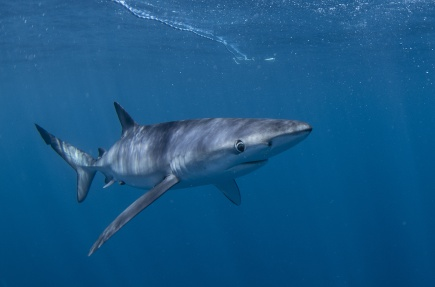Azul: (30, 95, 317, 263)
